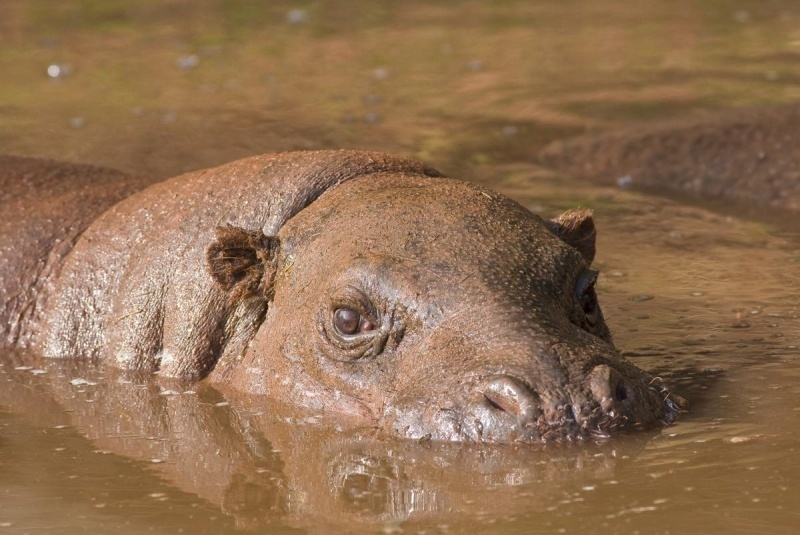hipopotamo: (1, 121, 703, 474)
